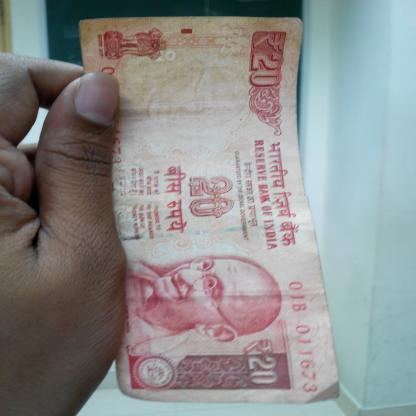Old20Front: (79, 17, 340, 404)
